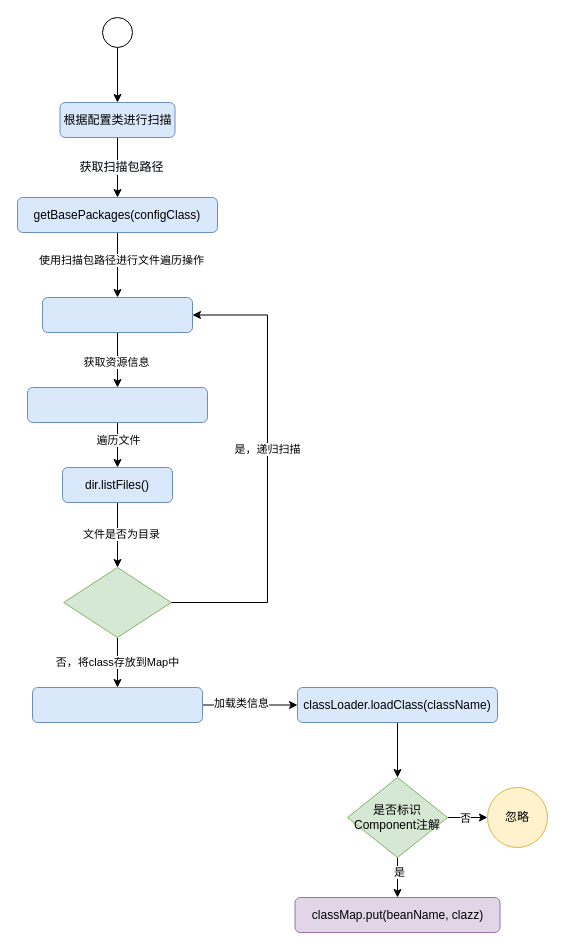
This 565x950 diagram has some shape labels left out. Each missing label, with the box of its shape:
doScan(basePackages): (42, 296, 192, 332)
file.isDirectory(): (63, 566, 171, 638)
getResource(basePackages): (26, 386, 208, 422)
registerClass(className): (32, 686, 202, 722)
